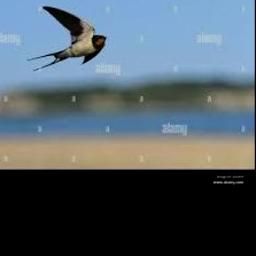Swallow: (28, 5, 106, 70)
